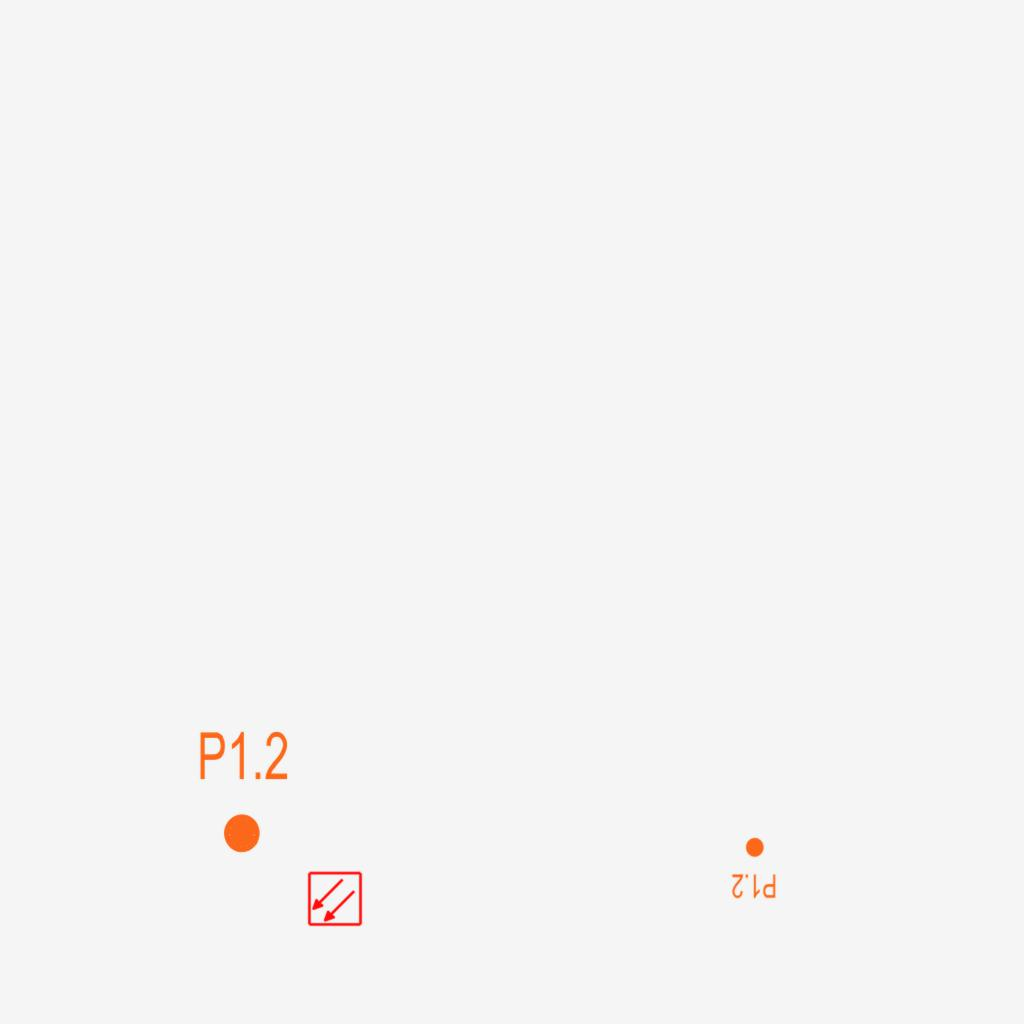Downlight_LED_Einbauleuchten_Flur: (197, 728, 290, 856), (731, 836, 777, 900)
RMO_Rauchmelder_optischer: (307, 871, 363, 927)
